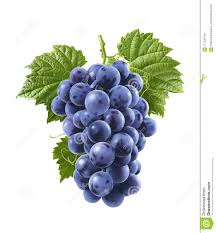Black grapes: (47, 45, 166, 210)
